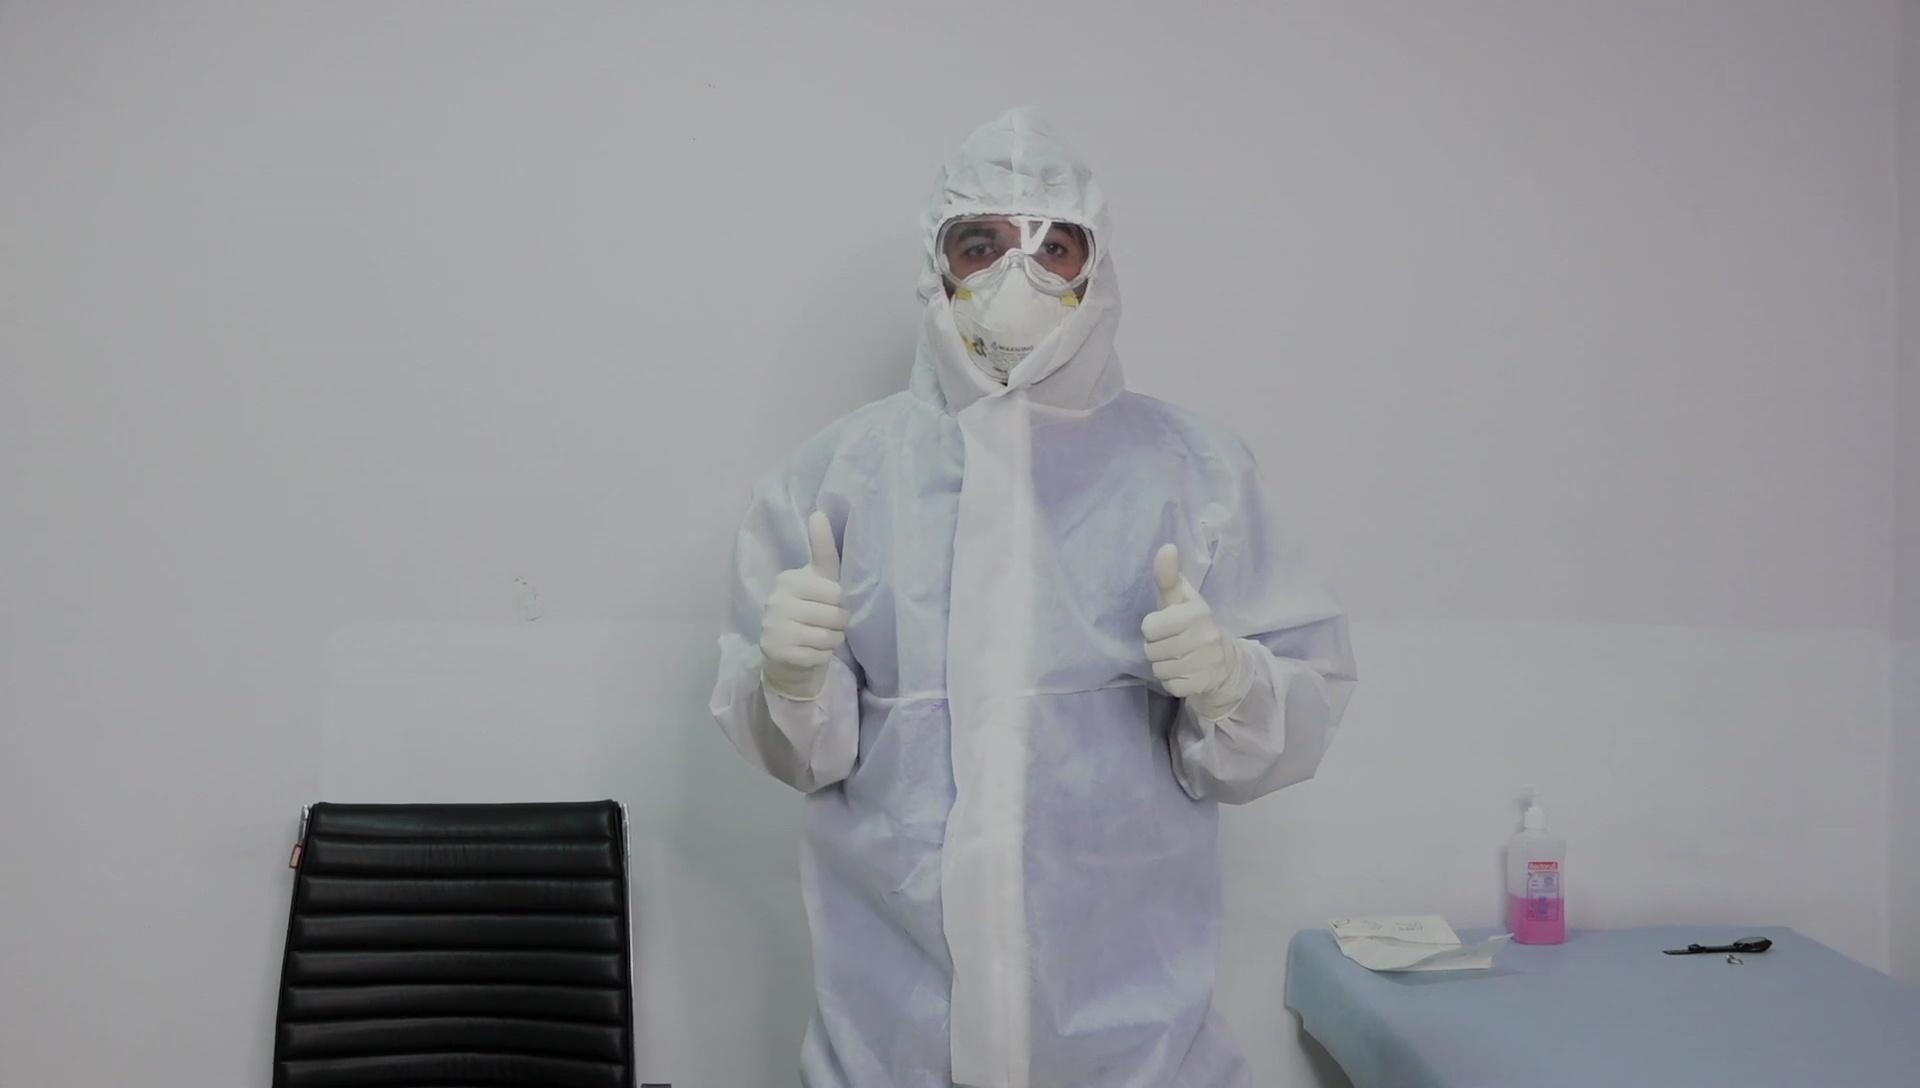Gloves: (758, 508, 851, 684), (1137, 541, 1226, 698)
Goggles: (931, 212, 1100, 298)
